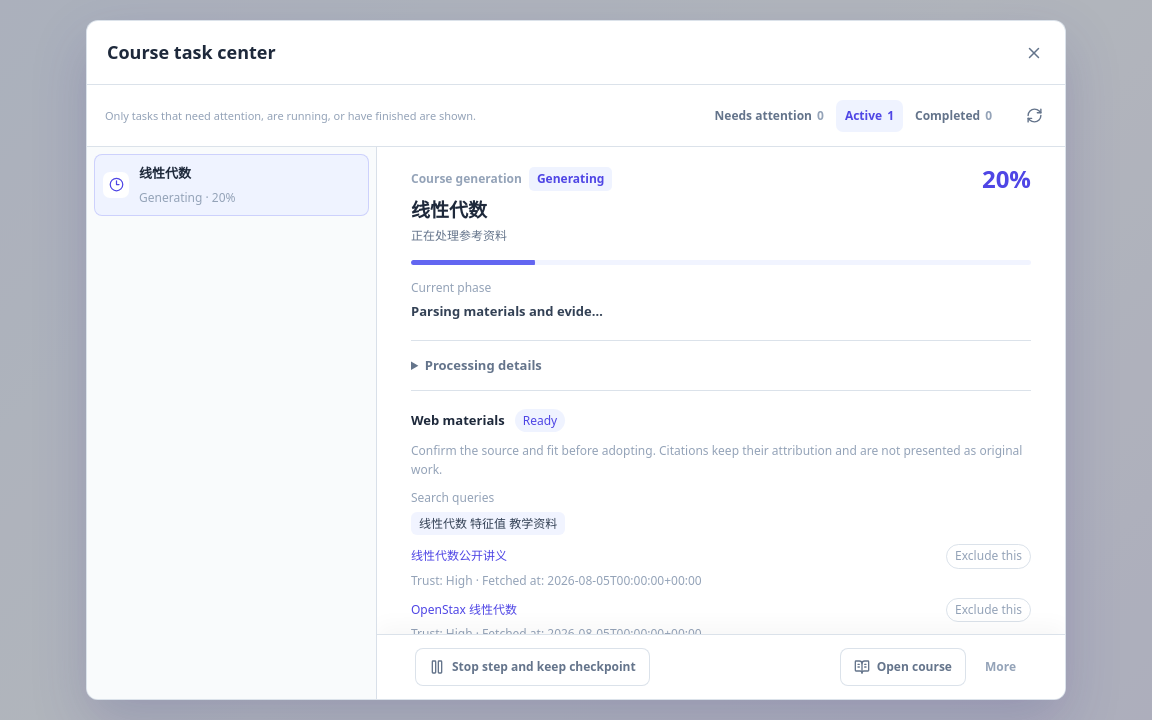
Test case: CourseTaskCenter 联网资料审阅 › 英文界面的剔除按钮无中文残留
What coordinates should you click on to do the following:
click the button with test id "web-source-toggle-src_mit"
I would click on:
 (989, 557)
Its box is x1=946 y1=544 x2=1031 y2=569.
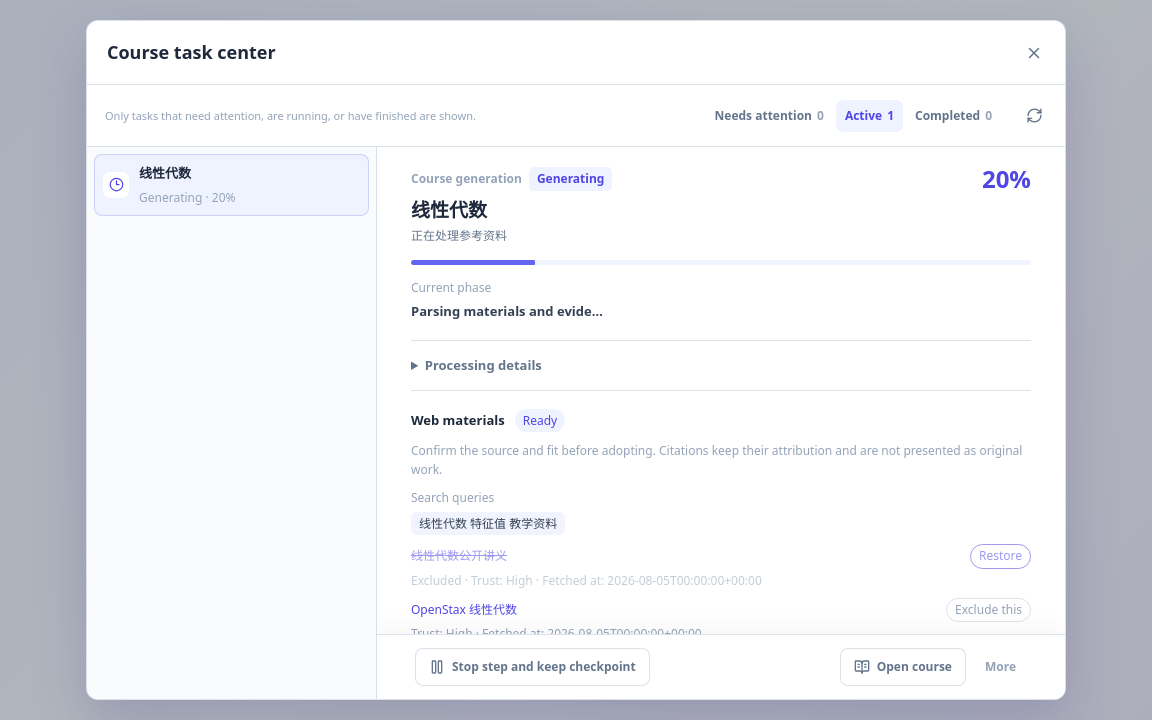
Result: the button with test id "web-source-toggle-src_mit" reads "Restore" at x1=970 y1=544 x2=1031 y2=569
